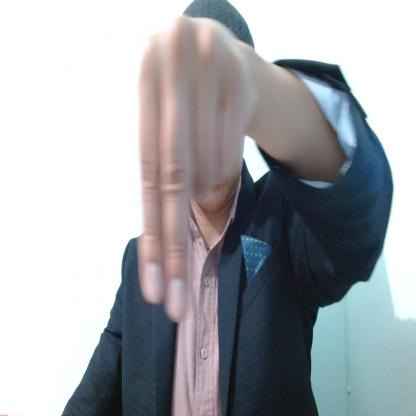N: (138, 15, 264, 325)
